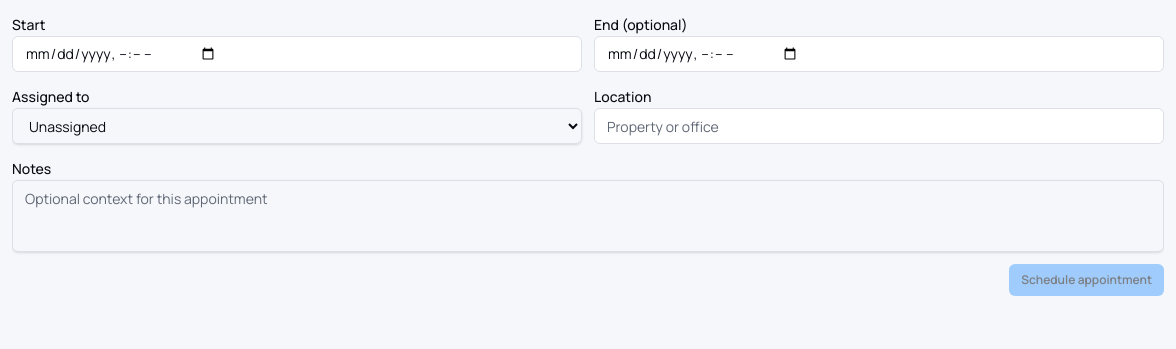
Test case: AppointmentForm › shows a client-side error when end is not after start
Type "2026-08-22T10:00" into the field labelled "Start" at x=297, y=54, box [12,36,582,72]
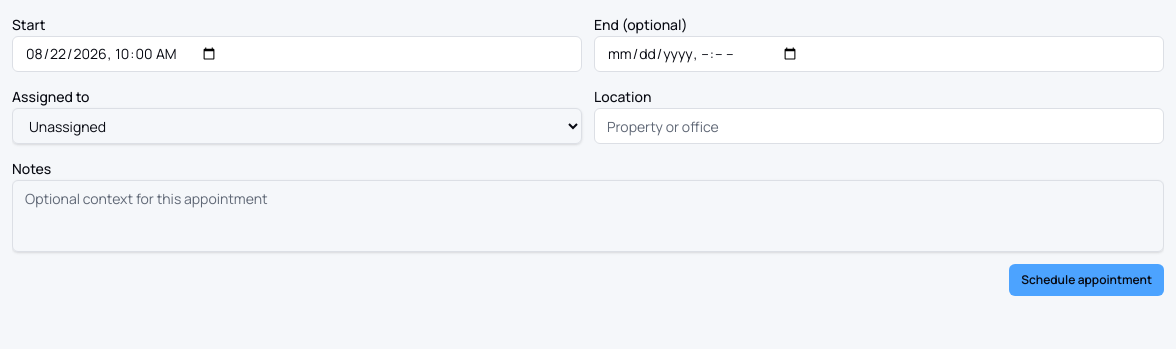
Type "2026-08-22T09:00" into the field labelled "End" at x=879, y=54, box [594,36,1164,72]
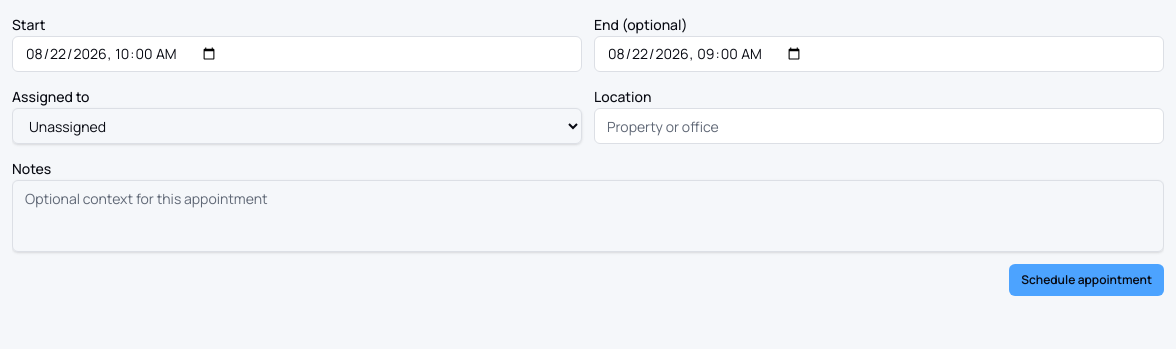
Click the button "Schedule appointment" at x=1087, y=280, box [1009,264,1164,296]
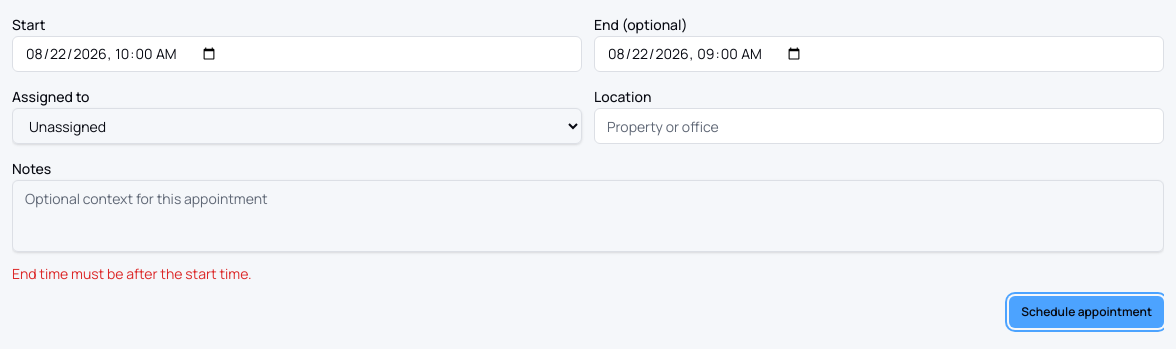
Now the message reads "End time must be after the start time.", box [12,264,252,283]
